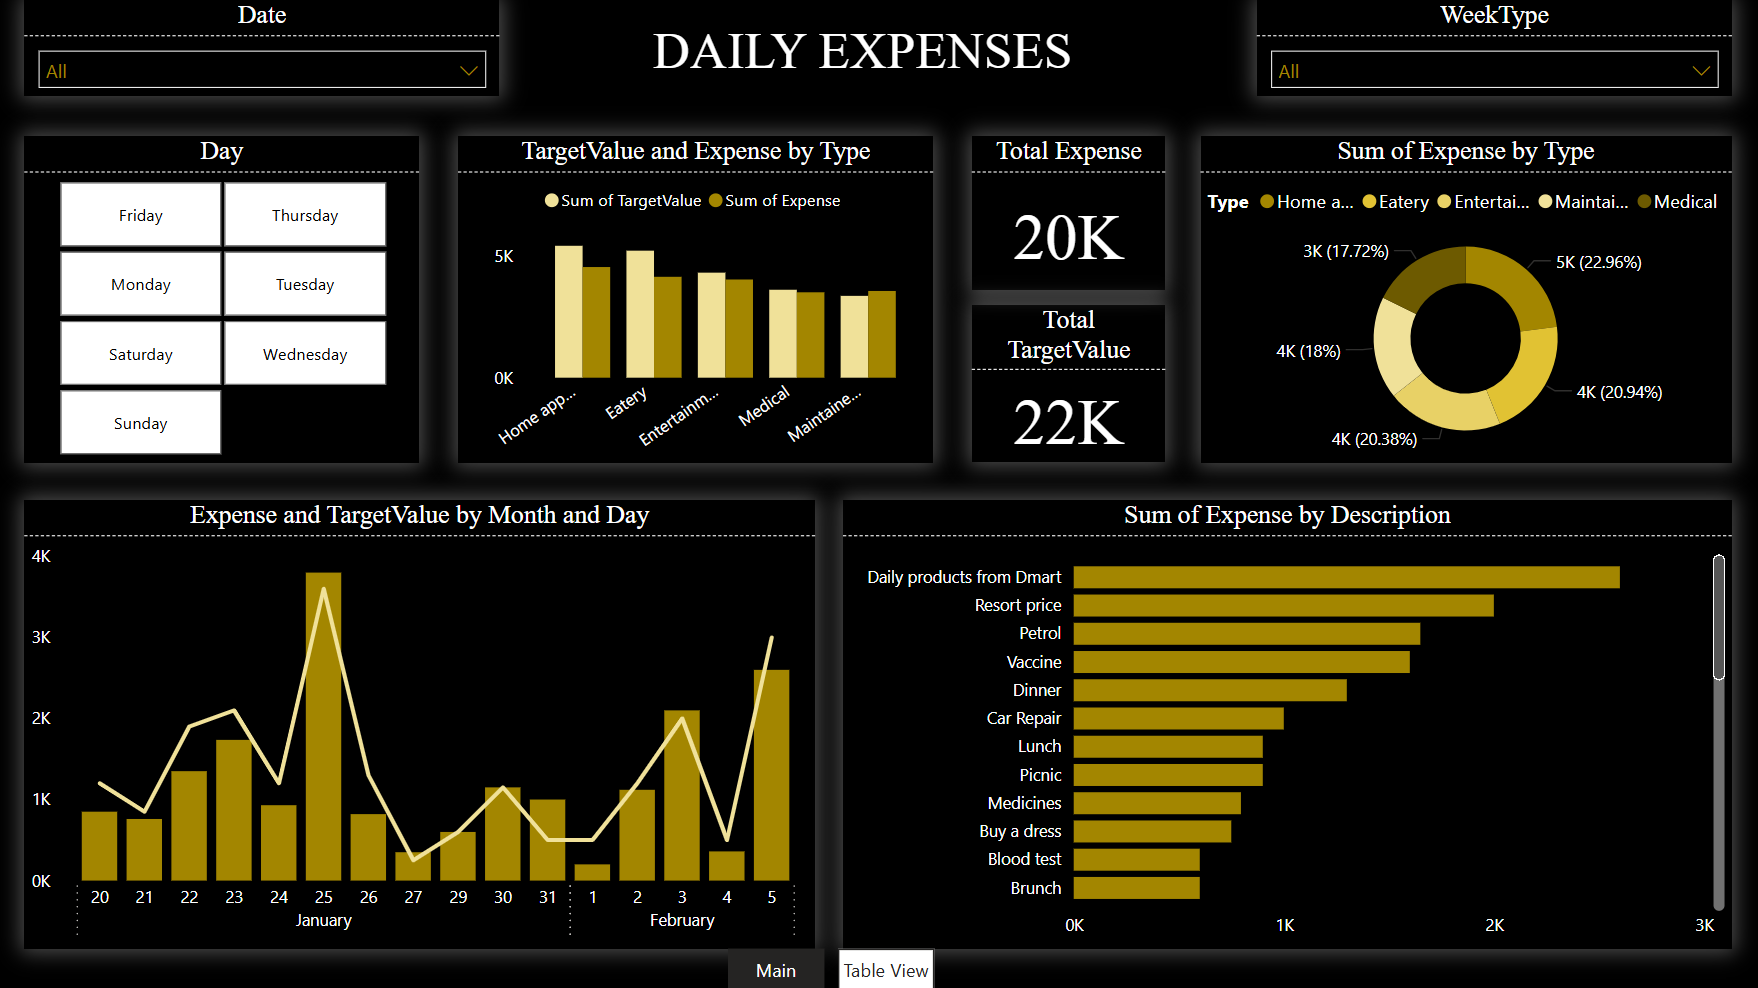

Layout of this report page (visuals, bound fields, positions):
{"tool":"powerbi","page":{"name":"Main","canvas":[1280,720],"ordinal":0},"visuals":[{"type":"barChart","fields":{"Category":["pro1 details_view.Description"],"Y":["Sum(pro1 details_view.Expense)"]},"box":[614.8,363.6,646.3,326.6],"z":0},{"type":"donutChart","fields":{"Category":["pro1 details_view.Type","pro1 schedule_view.WeekType"],"Y":["Sum(pro1 details_view.Expense)"]},"box":[874.7,98.9,386.1,237.7],"z":1000},{"type":"clusteredColumnChart","title":"TargetValue and Expense by Type","fields":{"Y":["Sum(pro1 schedule_view.TargetValue)","Sum(pro1 details_view.Expense)"],"Category":["pro1 schedule_view.Type"]},"box":[334.8,98.8,345.8,237.4],"z":2000},{"type":"card","title":"Total Expense","fields":{"Values":["Sum(pro1 details_view.Expense)"]},"box":[708.2,98.9,141.2,112.2],"z":3000},{"type":"card","title":"Total TargetValue ","fields":{"Values":["Sum(pro1 schedule_view.TargetValue)"]},"box":[708.2,222,141.2,114.6],"z":4000},{"type":"slicer","title":"Date","fields":{"Values":["pro1 details_view.Date"]},"box":[19.2,0,345.8,70],"z":5000},{"type":"slicer","title":"Day","fields":{"Values":["pro1 schedule_view.Day"]},"box":[19.3,98.9,287.1,237.7],"z":6000},{"type":"textbox","box":[415.8,9.6,426.8,60.4],"z":7000},{"type":"lineClusteredColumnComboChart","title":"Expense and TargetValue by Month and Day","fields":{"Y":["Sum(pro1 details_view.Expense)"],"Y2":["Sum(pro1 schedule_view.TargetValue)"],"Category":["pro1 schedule_view.Date.Variation.Date Hierarchy.Month","pro1 schedule_view.Date.Variation.Date Hierarchy.Day"]},"box":[19.2,363.6,575,326.6],"z":8000},{"type":"slicer","title":"WeekType","fields":{"Values":["pro1 schedule_view.WeekType"]},"box":[915.3,0,345.8,70],"z":9000},{"type":"pageNavigator","box":[530.8,690.1,150.8,30.2],"z":9001}]}

Visuals, with their boxes in screenshot pixels (x1, y1, x2, y2), scaled from the page's 1280x720 canvas onto the 1758x988 screenshot:
barChart - pro1 details_view.Description x Sum(pro1 details_view.Expense): bbox=(844, 499, 1732, 947)
donutChart - pro1 details_view.Type x pro1 schedule_view.WeekType: bbox=(1201, 136, 1732, 462)
"TargetValue and Expense by Type" clusteredColumnChart: bbox=(460, 136, 935, 461)
"Total Expense" card: bbox=(973, 136, 1167, 290)
"Total TargetValue " card: bbox=(973, 305, 1167, 462)
"Date" slicer: bbox=(26, 0, 501, 96)
"Day" slicer: bbox=(27, 136, 421, 462)
textbox: bbox=(571, 13, 1157, 96)
"Expense and TargetValue by Month and Day" lineClusteredColumnComboChart: bbox=(26, 499, 816, 947)
"WeekType" slicer: bbox=(1257, 0, 1732, 96)
pageNavigator: bbox=(729, 947, 936, 987)
